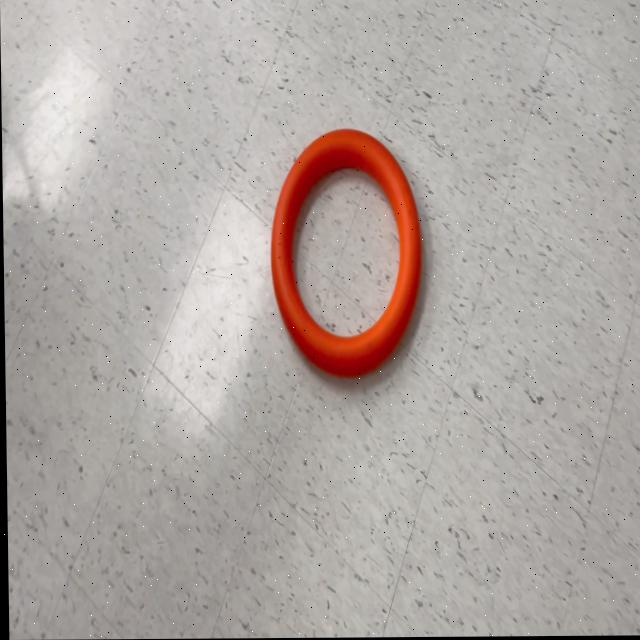note: (268, 128, 424, 380)
